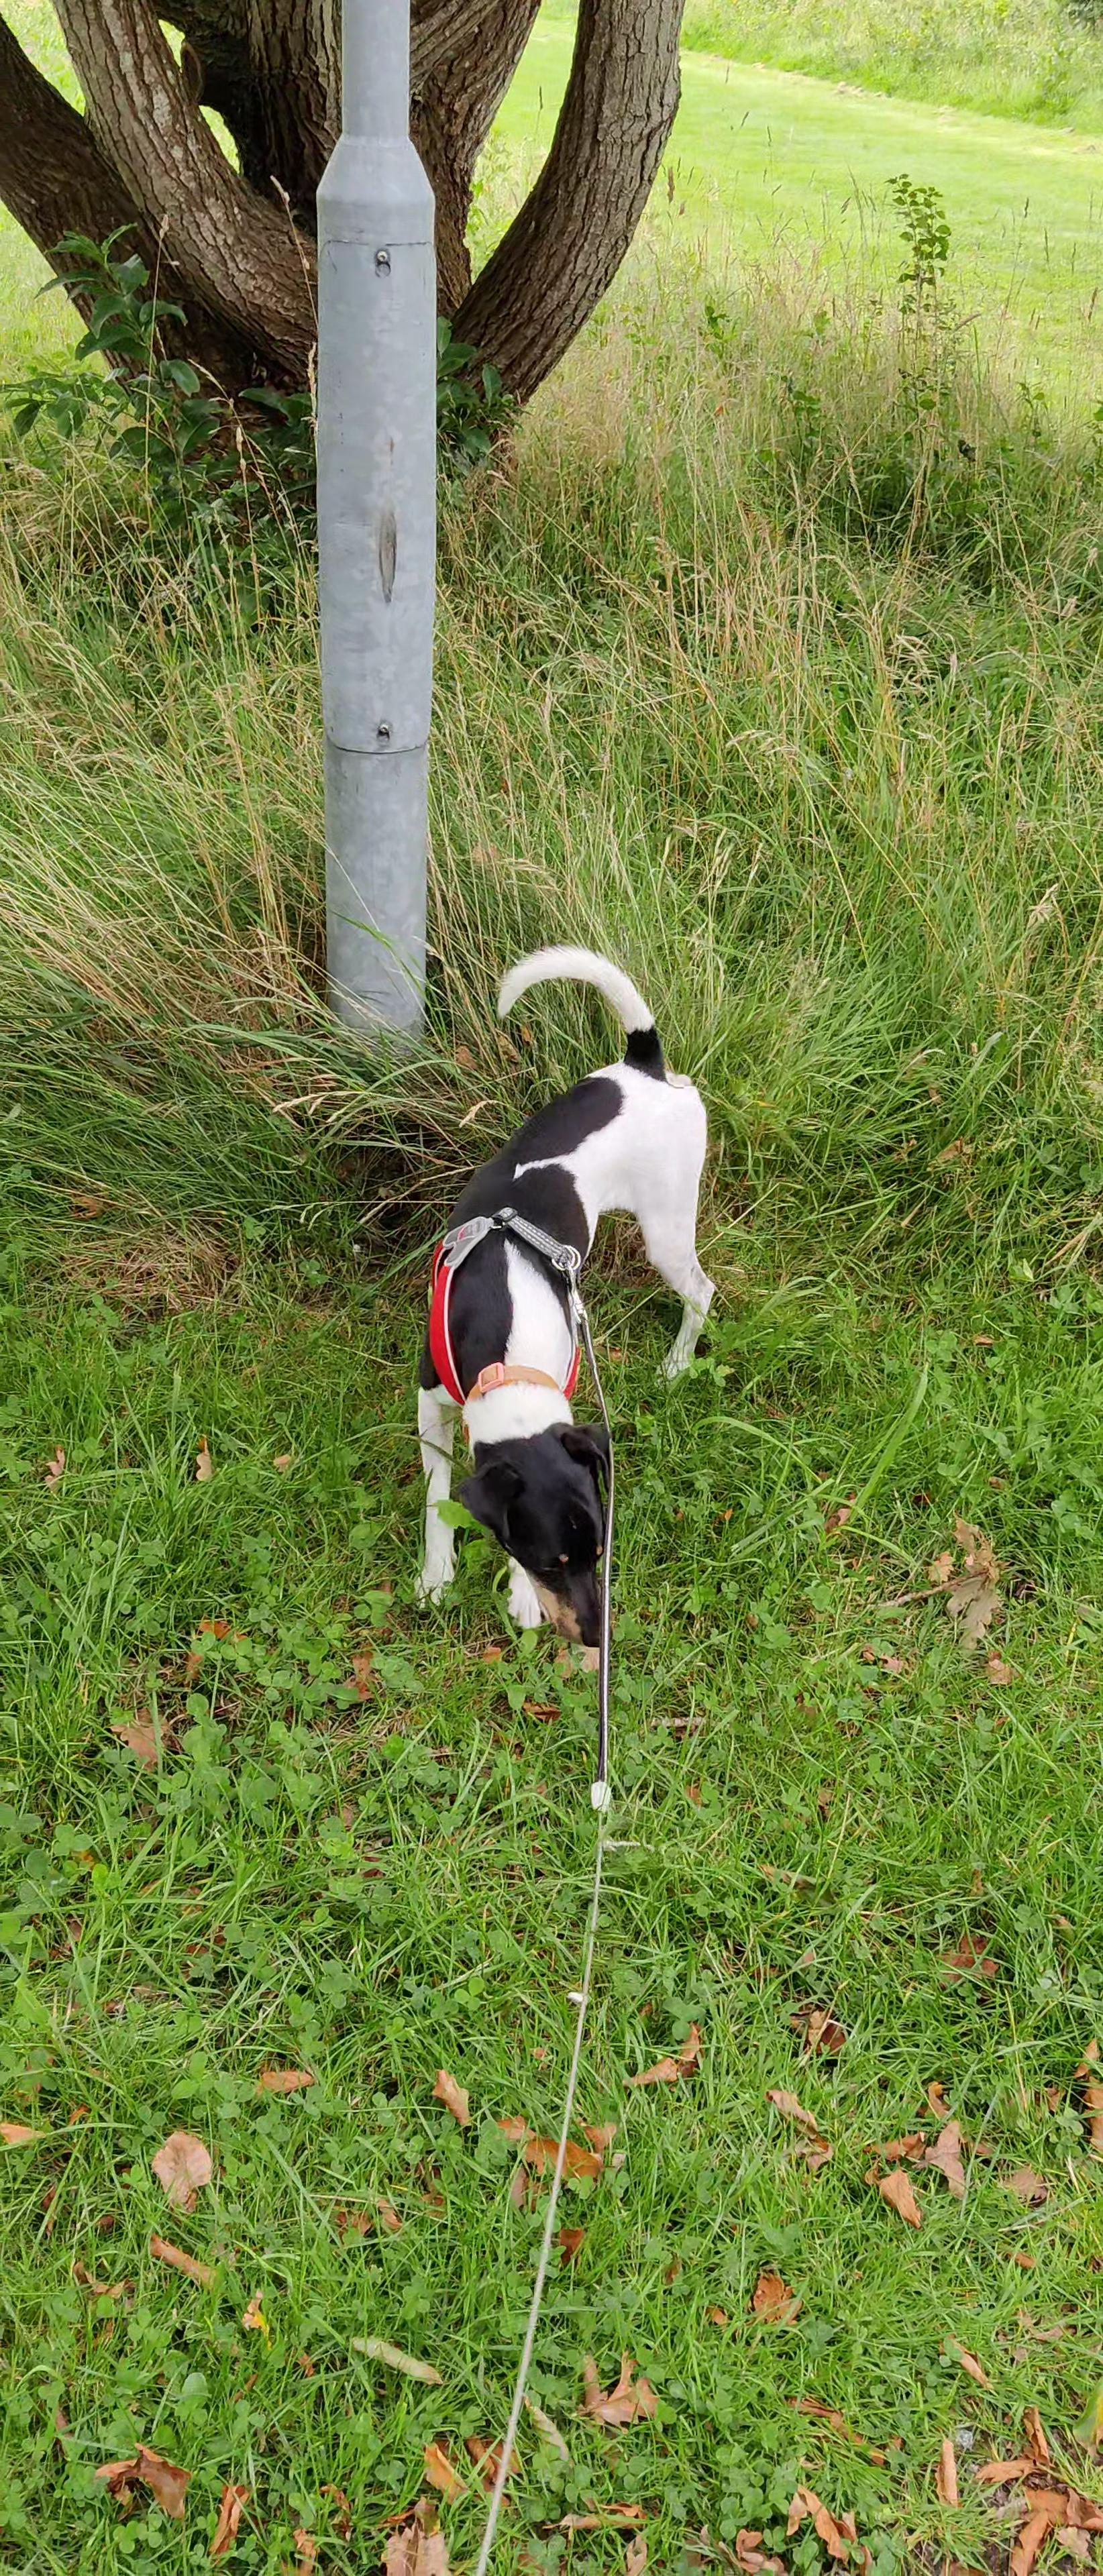Dog: (381, 925, 759, 1687)
